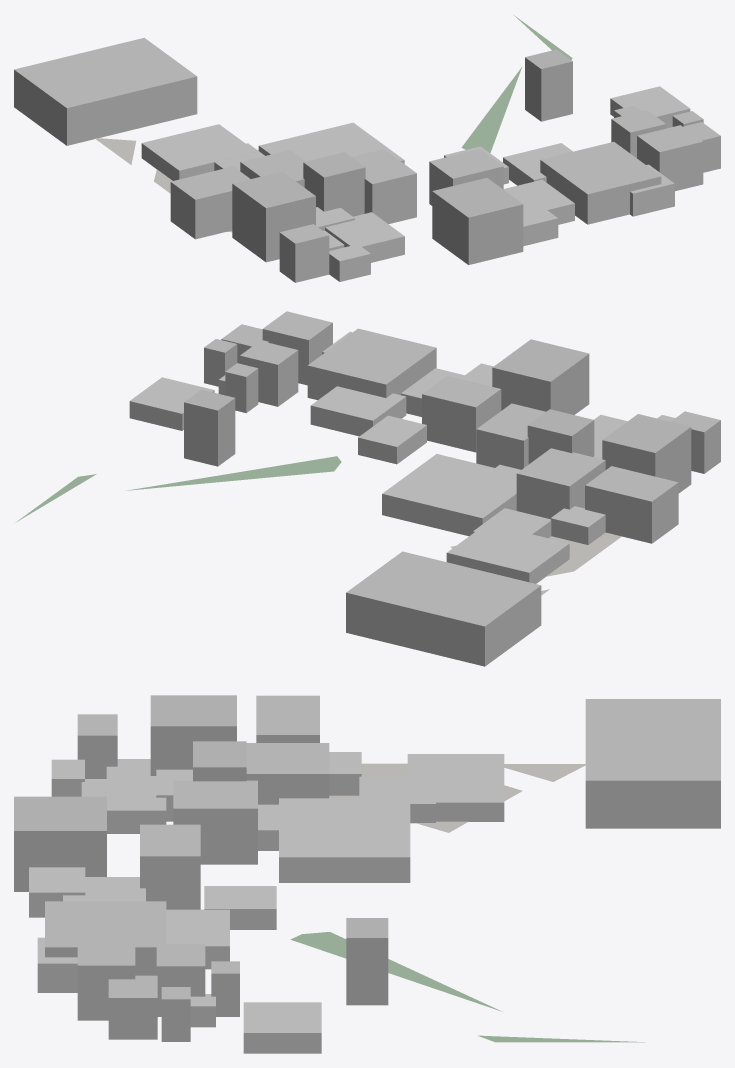
File: 110_94_mid.glb
The picture shows the model from 3 angles, top to bottom: view 1: azimuth 30°, elevation 25°; view 2: azimuth 150°, elevation 25°; view 3: azimuth 270°, elevation 25°; orthographic projection. The views are drawn at different scales.
Bounding box in the file's own units: 554 × 60.88 × 541.
